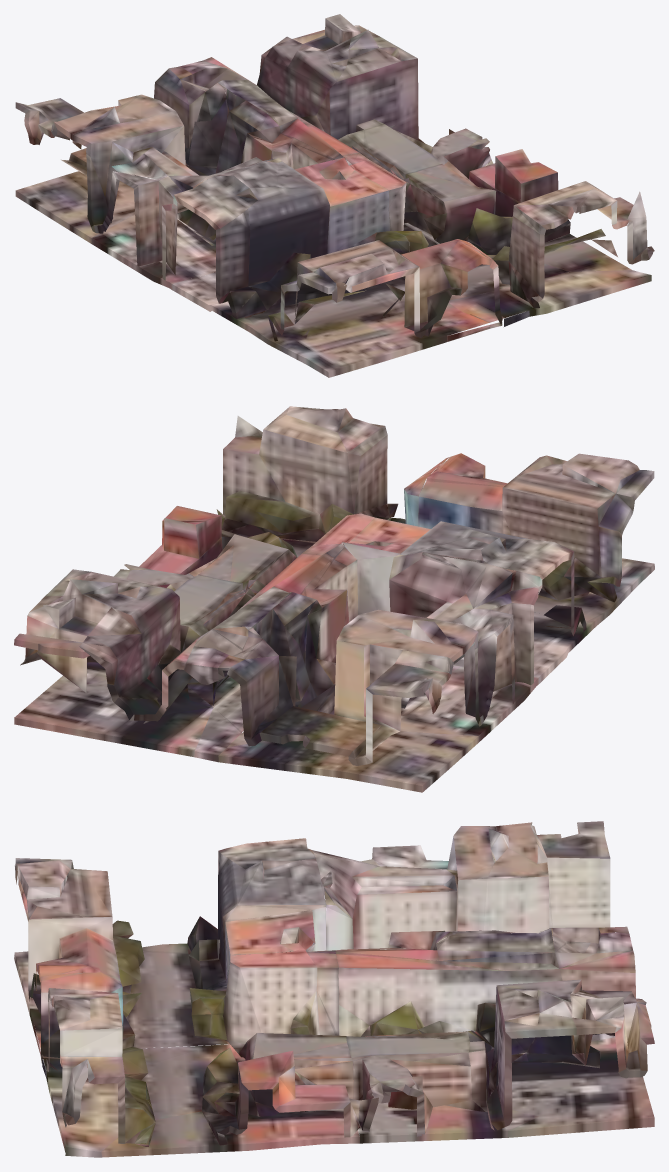
3 renders of one model, top to bottom at view 1: azimuth 30°, elevation 25°; view 2: azimuth 150°, elevation 25°; view 3: azimuth 270°, elevation 25°, orthographic. The views are drawn at different scales.
Parts seen in each view (by area): view 1: Mesh_0; view 2: Mesh_0; view 3: Mesh_0.
Boxes of the visible parts, x1=… form: Mesh_0: x1=15, y1=14, x2=654, y2=377; Mesh_0: x1=14, y1=406, x2=654, y2=792; Mesh_0: x1=14, y1=821, x2=654, y2=1157.
Bounding box in the file's own units: 135 × 39.05 × 165.
1 material, 1 textured.
